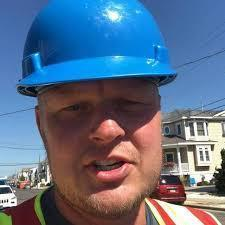helmet: (15, 0, 178, 97)
